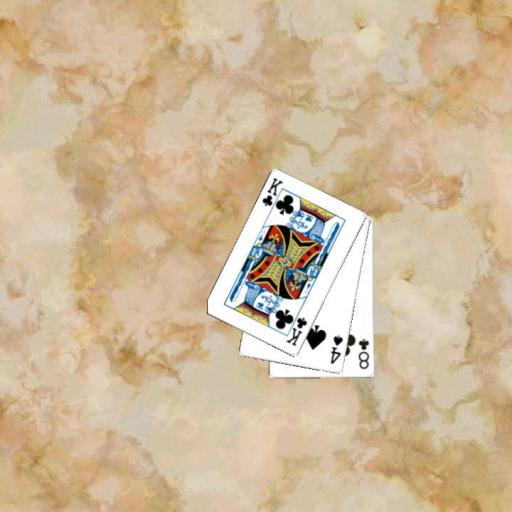4S: (328, 332, 345, 366)
8C: (356, 336, 371, 371)
KC: (282, 309, 309, 348), (259, 175, 285, 214)
